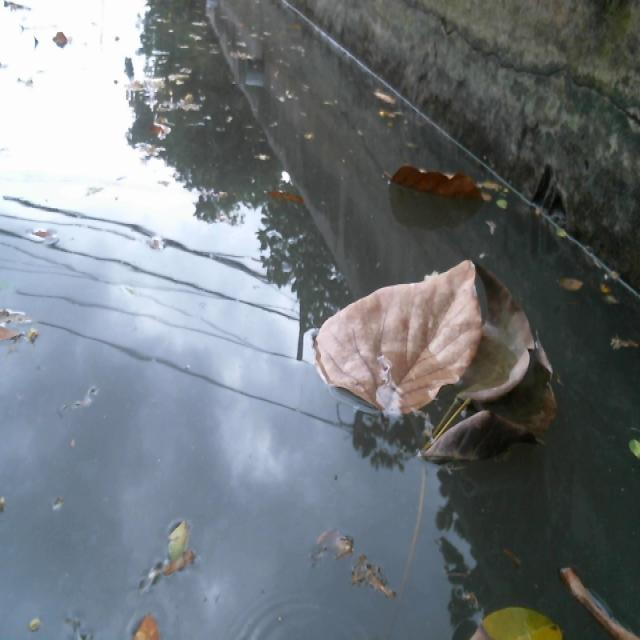Big-leaf: (312, 238, 488, 419), (418, 273, 562, 466), (386, 159, 497, 218)
Small-leaf: (553, 545, 640, 640), (451, 578, 573, 640), (148, 498, 228, 587), (0, 286, 49, 372), (12, 215, 68, 262), (545, 223, 598, 263), (125, 605, 166, 640), (552, 272, 594, 304), (370, 88, 403, 125), (264, 179, 309, 206), (621, 413, 640, 468), (493, 188, 513, 213)
